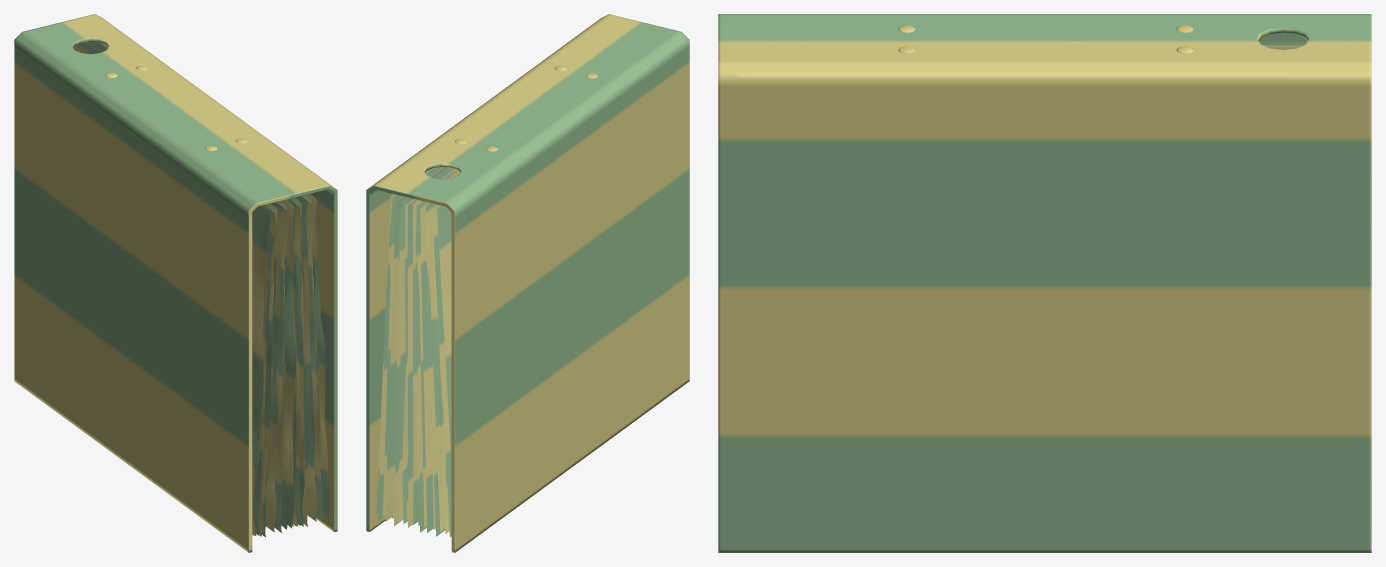
The model's file is yellow_green_striped_book.obj.
3 renders of one model, left to right at view 1: azimuth 30°, elevation 25°; view 2: azimuth 150°, elevation 25°; view 3: azimuth 270°, elevation 25°, orthographic. The views are drawn at different scales.
Visible parts, largest first — view 1: yellow_green_striped_book_Chocofur_Office_06.000, yellow_green_striped_book_Chocofur_Office_06.002; view 2: yellow_green_striped_book_Chocofur_Office_06.000, yellow_green_striped_book_Chocofur_Office_06.002; view 3: yellow_green_striped_book_Chocofur_Office_06.000.
Part boxes in pixels (left/top/right/bottom): yellow_green_striped_book_Chocofur_Office_06.000: left=14, top=14, right=337, bottom=552; yellow_green_striped_book_Chocofur_Office_06.002: left=73, top=42, right=329, bottom=536; yellow_green_striped_book_Chocofur_Office_06.000: left=366, top=14, right=689, bottom=552; yellow_green_striped_book_Chocofur_Office_06.002: left=376, top=167, right=459, bottom=537; yellow_green_striped_book_Chocofur_Office_06.000: left=718, top=14, right=1371, bottom=552.
Size of the model in its own units: 0.0755 by 0.2833 by 0.3455.
3 materials, 3 textured.
